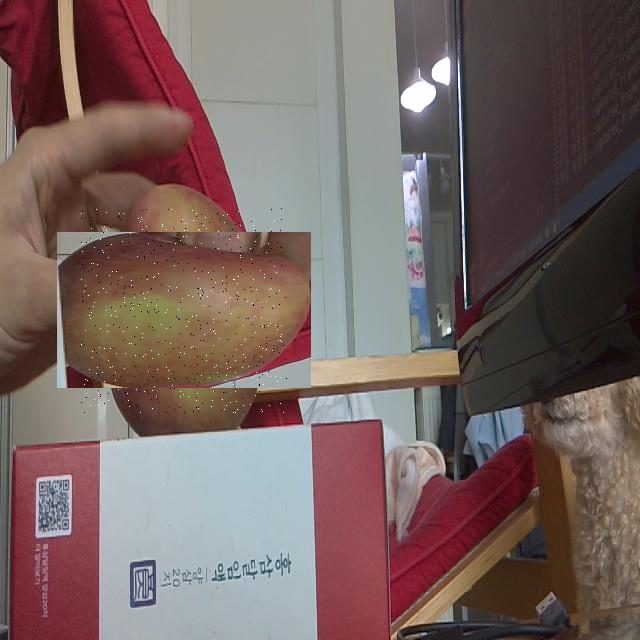apple: (81, 208, 287, 413)
